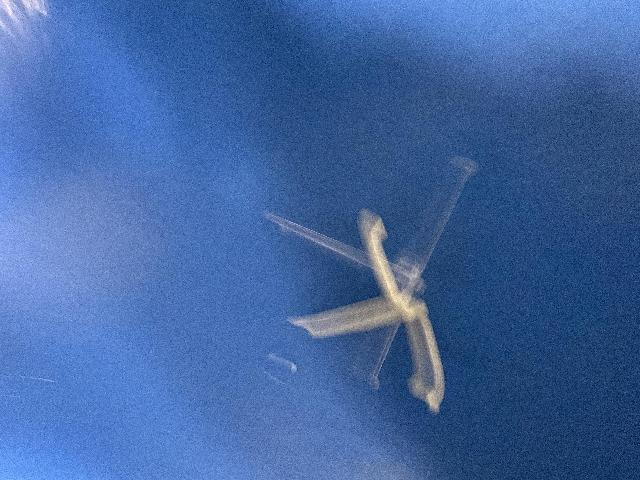Plastik: (246, 162, 500, 414)
